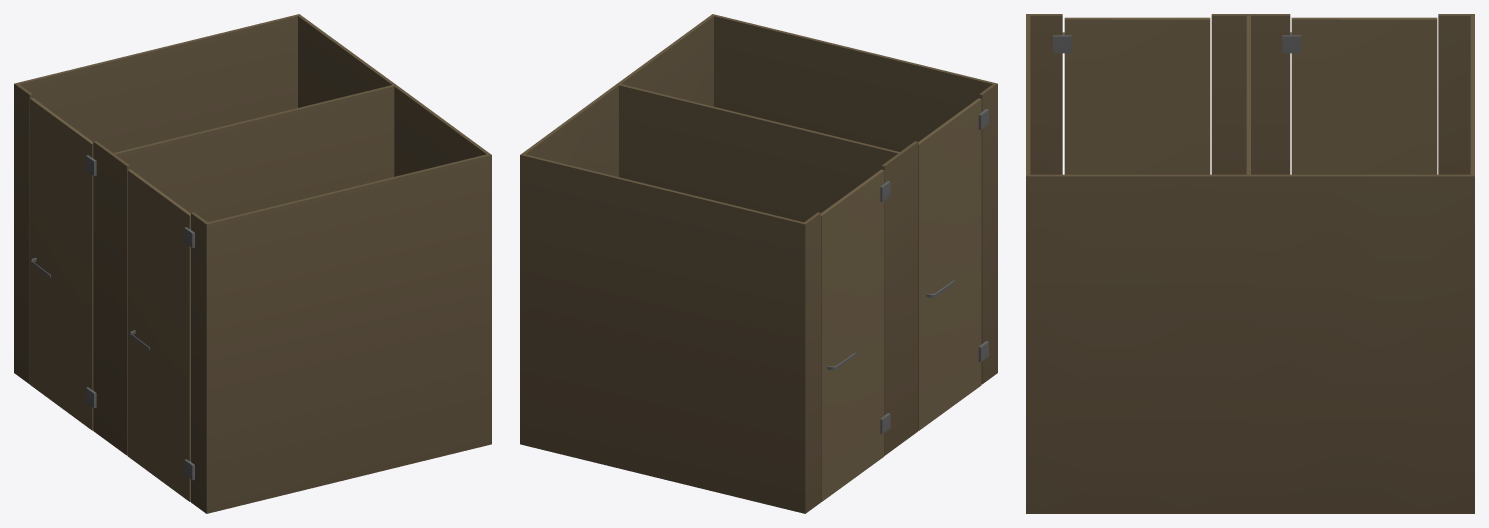
Rendered from Sanitarios.fbx.
The picture shows the model from 3 angles, left to right: view 1: azimuth 30°, elevation 25°; view 2: azimuth 150°, elevation 25°; view 3: azimuth 270°, elevation 25°; orthographic projection. The views are drawn at different scales.
Visible parts, largest first — view 1: Plane_004; view 2: Plane_004; view 3: Plane_004.
Boxes of the visible parts, box(x1,y1,x2,y2) form: Plane_004: box(14, 14, 491, 513); Plane_004: box(520, 14, 997, 513); Plane_004: box(1026, 14, 1474, 513).
Bounding box in the file's own units: 12.56 × 11.85 × 14.28.
Materials: 1 (1 with a texture image).
